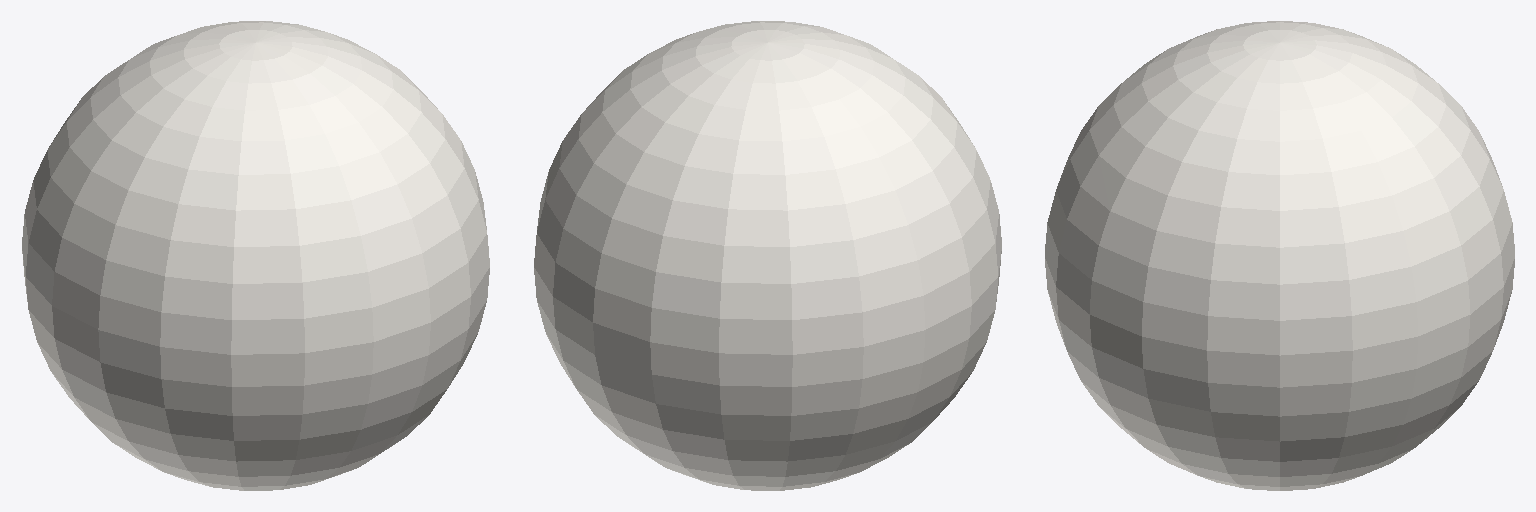
The picture shows the model from 3 angles: view 1: azimuth 30°, elevation 25°; view 2: azimuth 150°, elevation 25°; view 3: azimuth 270°, elevation 25°; orthographic projection.
Visible parts, largest first — view 1: pSphere1; view 2: pSphere1; view 3: pSphere1.
Boxes of the visible parts, x1,y1,x2,y2 form: pSphere1: [22, 21, 489, 490]; pSphere1: [534, 21, 1001, 490]; pSphere1: [1045, 21, 1514, 490].
Size of the model in its own units: 1.5 by 1.5 by 1.5.
1 materials, 1 textured.